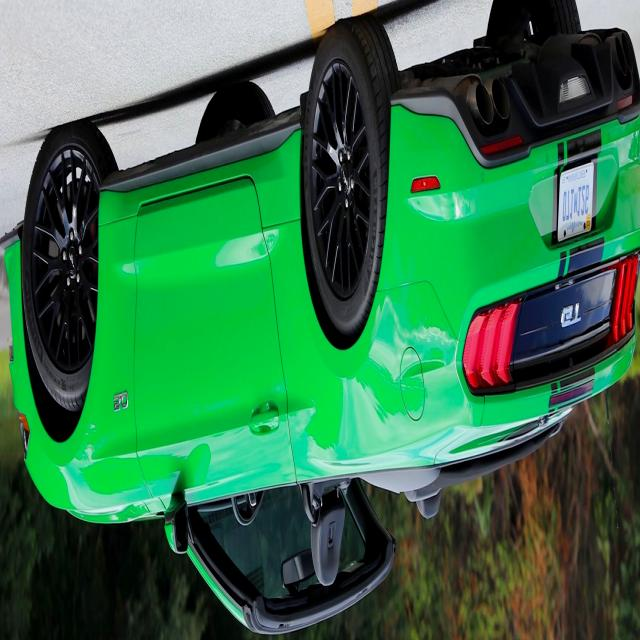green: (0, 14, 640, 640)
